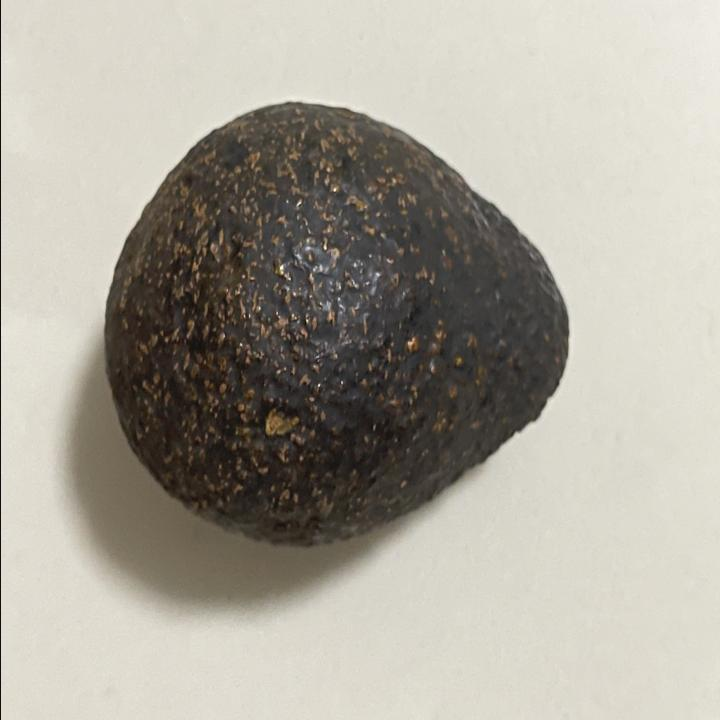Level3: (97, 97, 577, 556)
